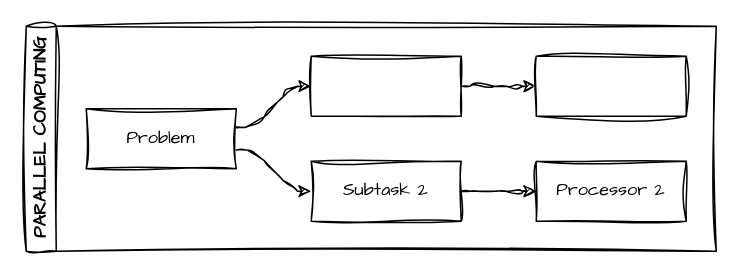
The diagram is 743 pixels wide and 278 high, and some of its shapes have lost their labels. Each missing label, with the centre of its shape:
"Processor 1" belongs at pixel 610 85.
"Subtask 1" belongs at pixel 385 85.
